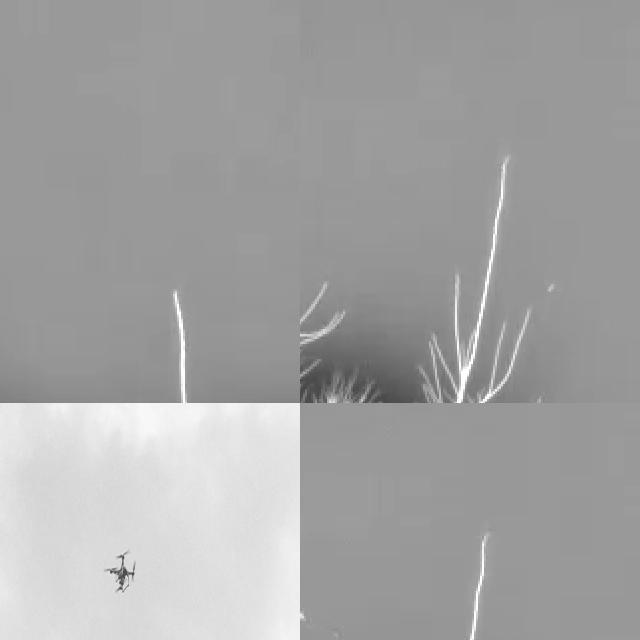0: (541, 272, 563, 302), (300, 603, 315, 636)
drone: (106, 549, 138, 599)
